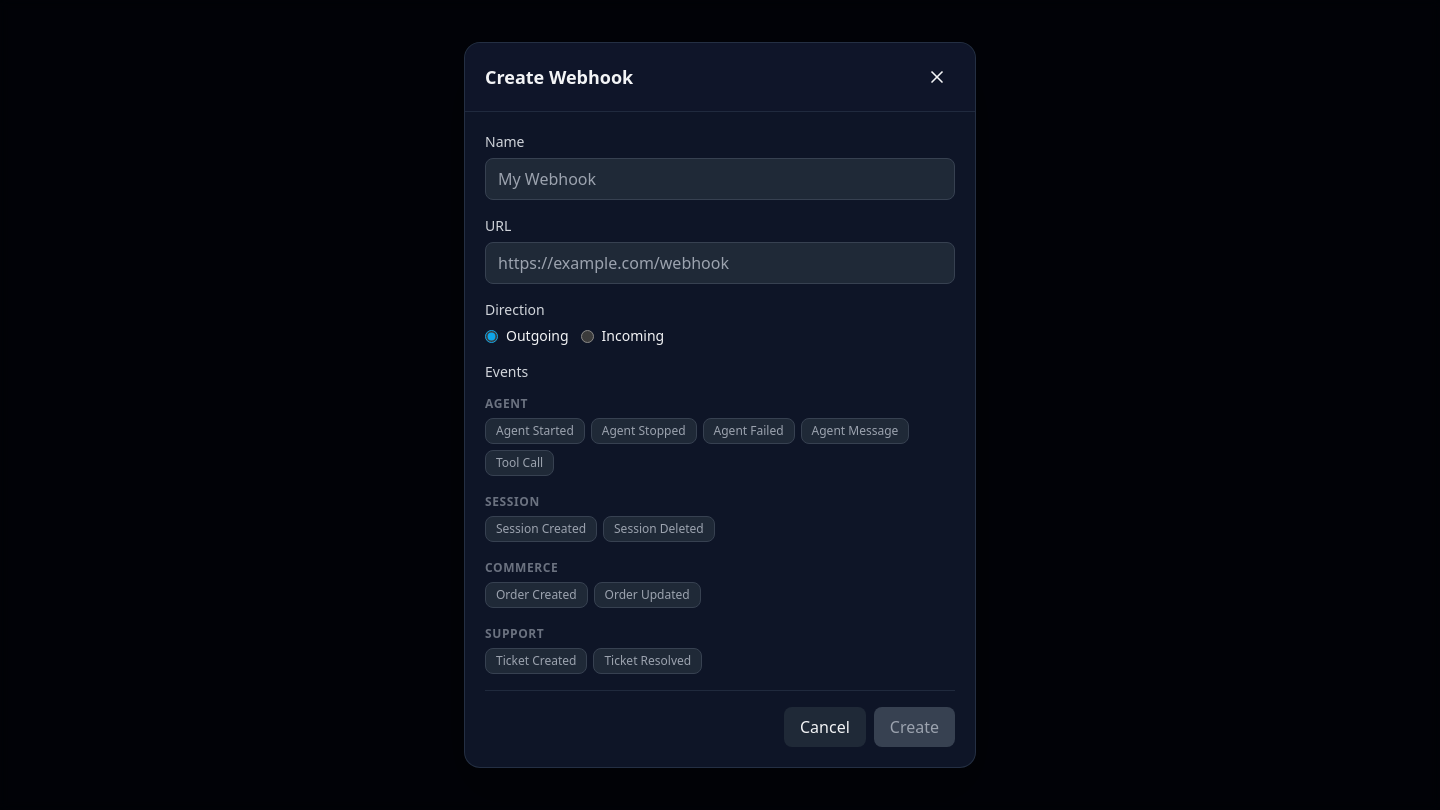
Test case: WebhookForm › shows a URL validation error for non-http URLs
Type "ftp://example.com" into the field labelled "URL".
click(720, 263); type("ftp://example.com")  # box [485,242,955,284]
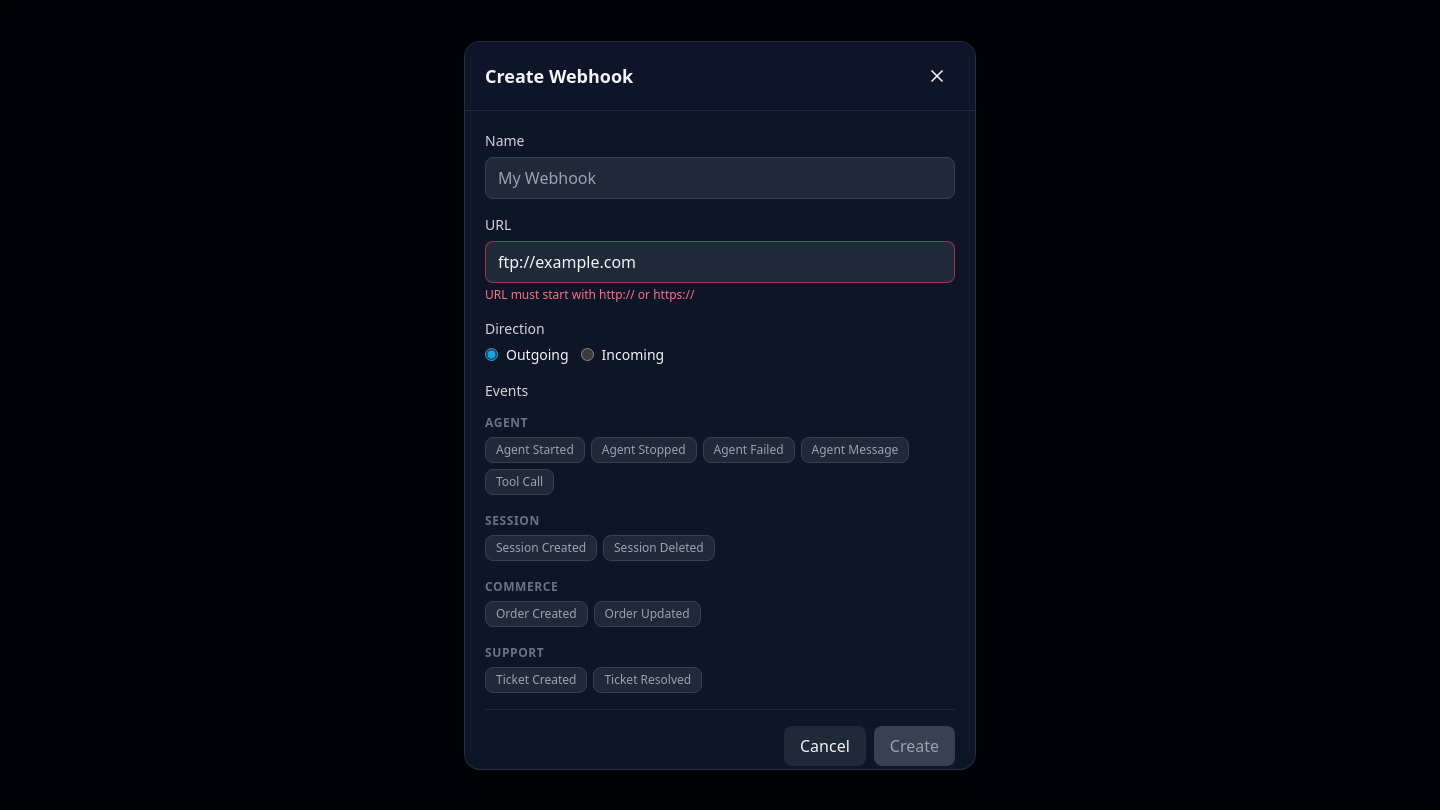
Now the text "URL must start with http:// or https://" is shown, box [485,286,694,302]
Replace the text in the field labelled "URL" with "https://example.com" at point(720, 262), box [485,240,955,282]
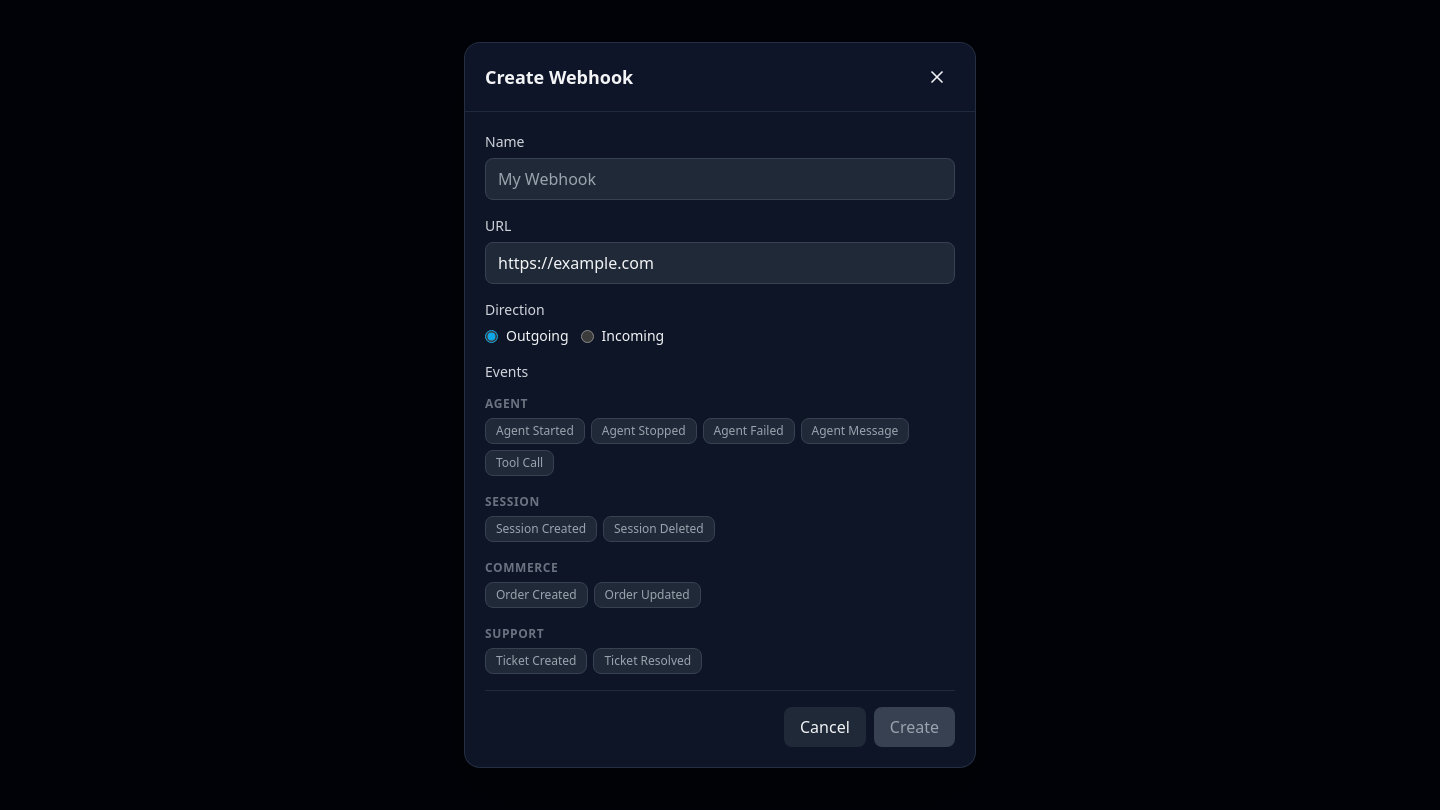
Now the text "URL must start with http:// or https://" is gone
